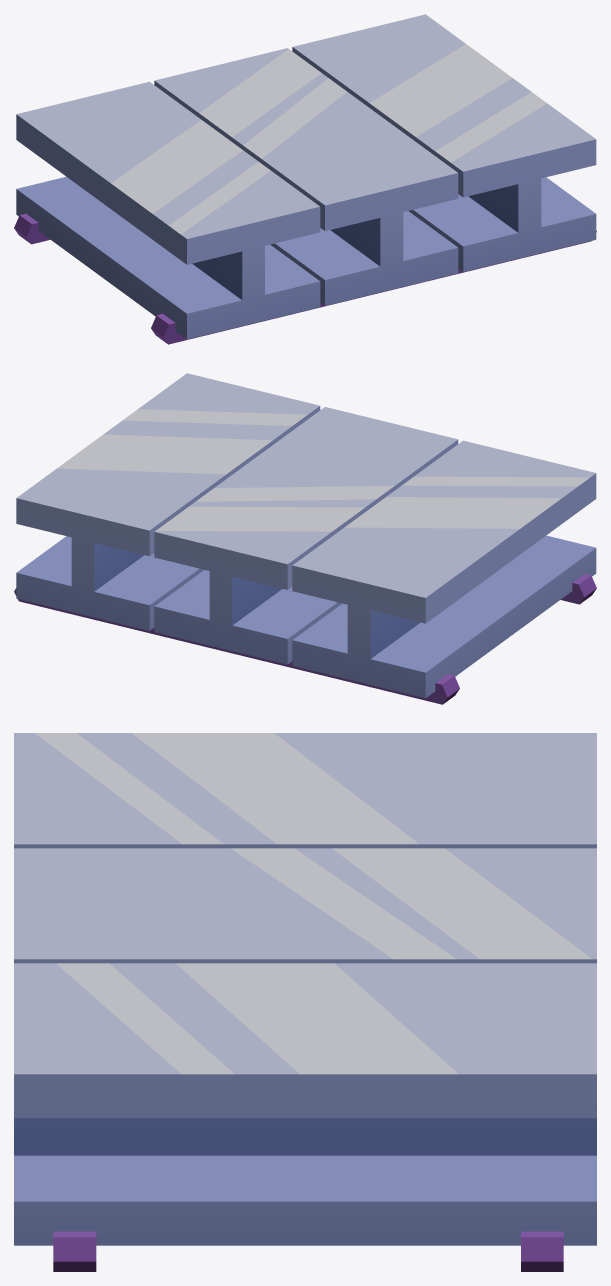
The model's file is obstacle-steel_beam_platform_rooftops_H1W3.glb.
3 renders of one model, top to bottom at view 1: azimuth 30°, elevation 25°; view 2: azimuth 150°, elevation 25°; view 3: azimuth 270°, elevation 25°, orthographic. The views are drawn at different scales.
Parts seen in each view (by area): view 1: obstacle-steel_beam_platform_rooftops_H1W3; view 2: obstacle-steel_beam_platform_rooftops_H1W3; view 3: obstacle-steel_beam_platform_rooftops_H1W3.
Boxes of the visible parts, left/top/right/bottom form: obstacle-steel_beam_platform_rooftops_H1W3: left=14, top=14, right=596, bottom=344; obstacle-steel_beam_platform_rooftops_H1W3: left=14, top=373, right=596, bottom=704; obstacle-steel_beam_platform_rooftops_H1W3: left=14, top=733, right=596, bottom=1271.
Size of the model in its own units: 8.8 by 2.18 by 6.
